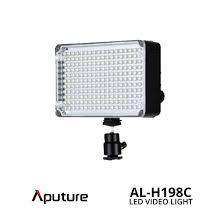Lamp: (41, 29, 177, 168)
